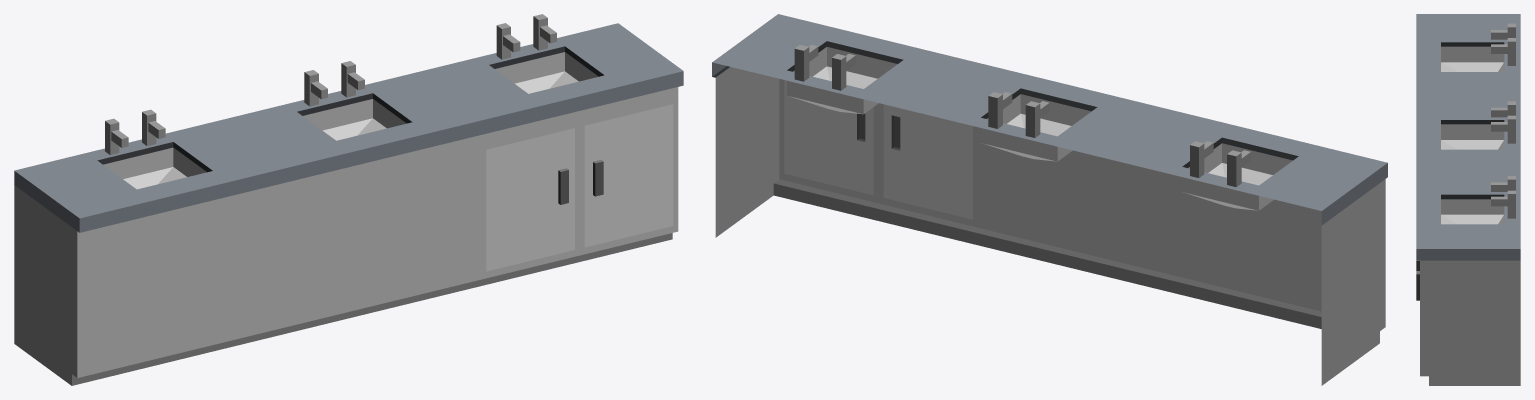
Rendered from SO_Sinks.fbx.
3 renders of one model, left to right at view 1: azimuth 30°, elevation 25°; view 2: azimuth 150°, elevation 25°; view 3: azimuth 270°, elevation 25°, orthographic. The views are drawn at different scales.
Parts seen in each view (by area): view 1: SO_Sinks; view 2: SO_Sinks; view 3: SO_Sinks.
Part boxes in pixels (x1,y1,x2,y2): SO_Sinks: [14, 14, 683, 385]; SO_Sinks: [712, 14, 1387, 385]; SO_Sinks: [1416, 14, 1520, 385].
Size of the model in its own units: 4.95 by 1.6 by 0.9319.
